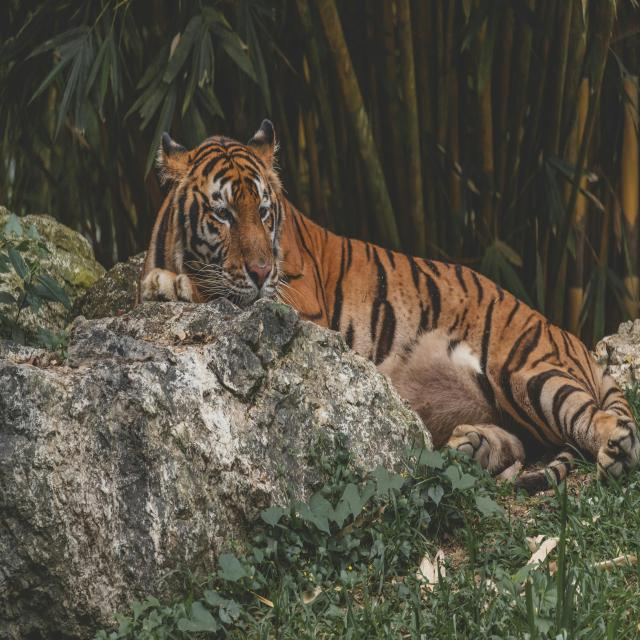Tiger: (140, 115, 635, 485)
